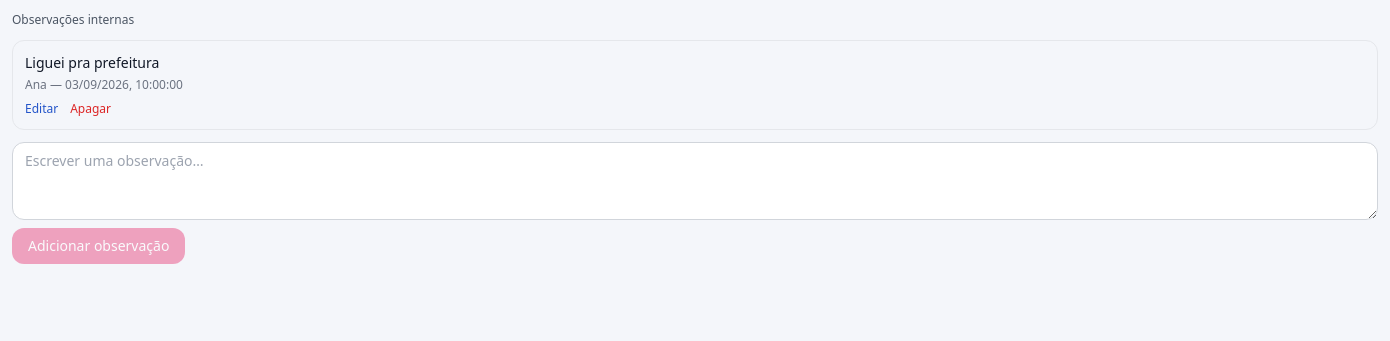
Scenario: ObservacoesInternas › edita a própria nota
The image size is (1390, 341).
Expected: the text "Liguei pra prefeitura" is shown, [25, 53, 159, 72]
Click the button "Editar". click: (42, 109)
box: [25, 101, 58, 117]
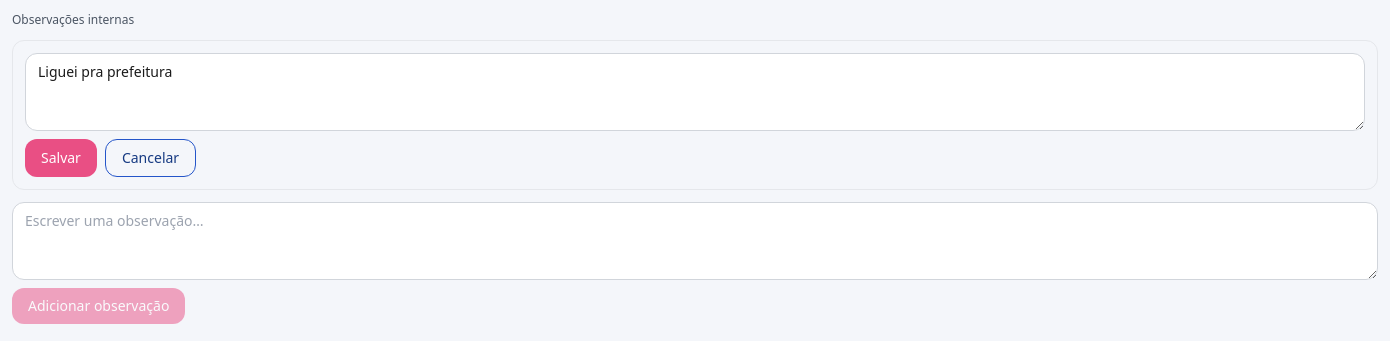
Replace the text in the text box showing "Liguei pra prefeitura" with "Texto corrigido". click: (695, 92)
box: [25, 53, 1365, 131]
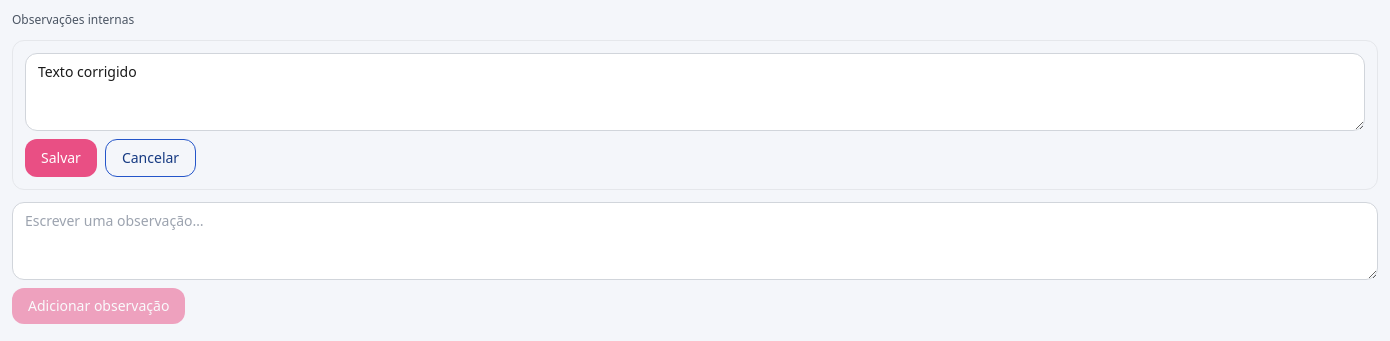
Click the button "Salvar". click: (61, 158)
box: [25, 139, 97, 177]
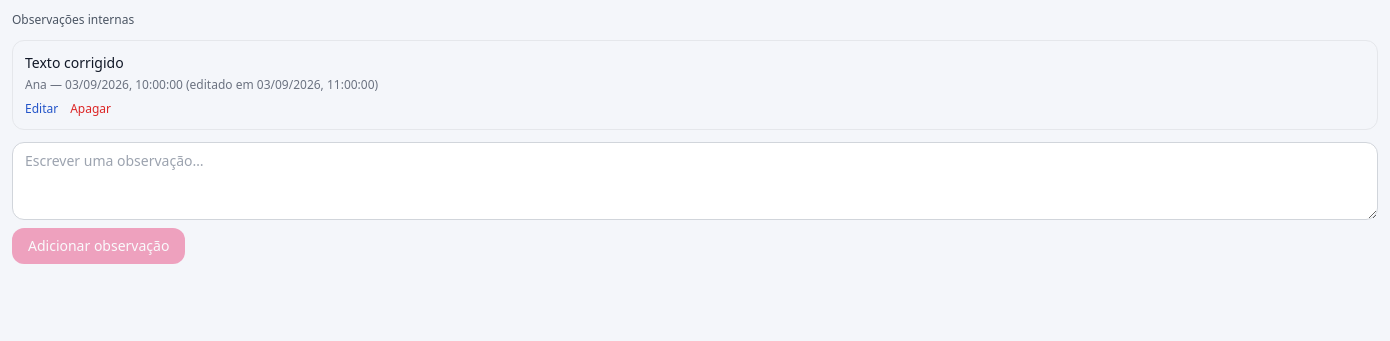
Now the text "Texto corrigido" is shown, box [25, 53, 124, 72]
